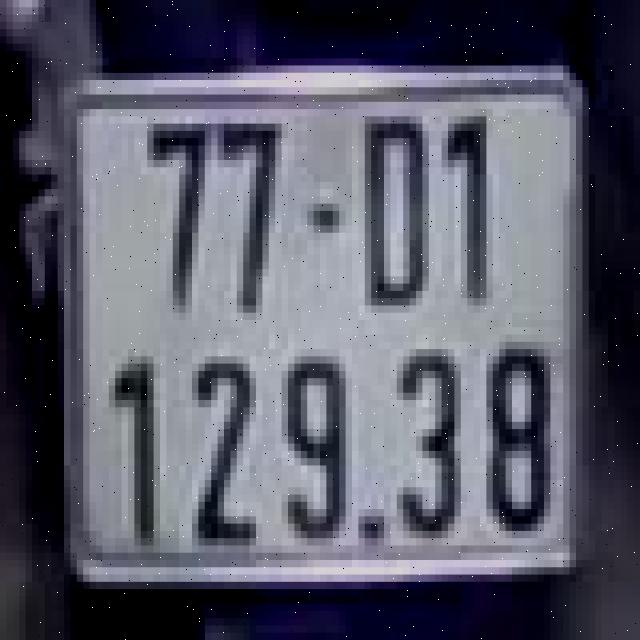1: (96, 346, 179, 564), (438, 105, 516, 324)
2: (180, 349, 262, 546)
3: (384, 345, 467, 542)
7: (134, 102, 212, 320), (211, 98, 282, 324)
8: (471, 335, 566, 560)
9: (269, 349, 352, 538)
D: (352, 84, 435, 316)
